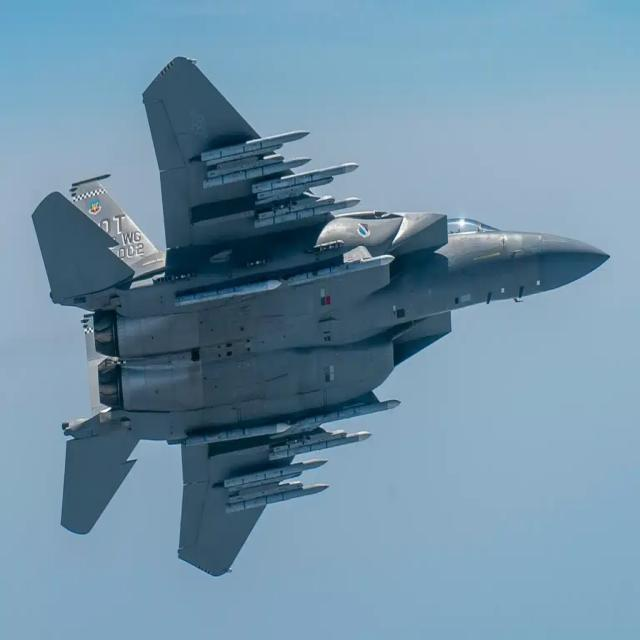F15: (13, 36, 640, 639)
